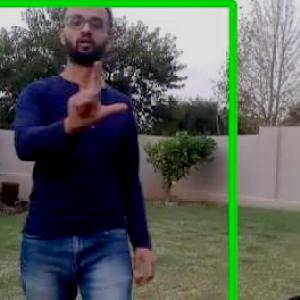land_hand: (62, 49, 130, 129)
